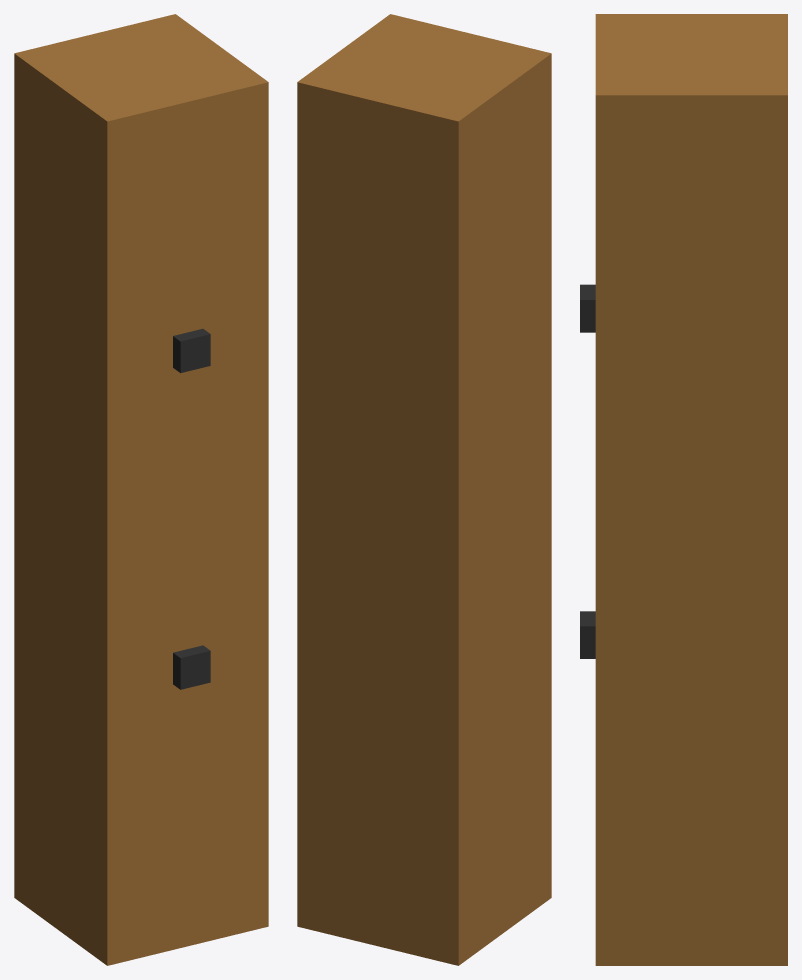
Rendered from Fence_Corner_90.fbx.
3 views of the same model, side by side, from view 1: azimuth 30°, elevation 25°; view 2: azimuth 150°, elevation 25°; view 3: azimuth 270°, elevation 25° (orthographic). The views are drawn at different scales.
Parts seen in each view (by area): view 1: Fence_Corner_90; view 2: Fence_Corner_90; view 3: Fence_Corner_90.
Boxes of the visible parts, x1,y1,x2,y2 form: Fence_Corner_90: [14, 14, 268, 965]; Fence_Corner_90: [297, 14, 551, 965]; Fence_Corner_90: [580, 14, 787, 965].
Size of the model in its own units: 0.24 by 1.2 by 0.2595.
